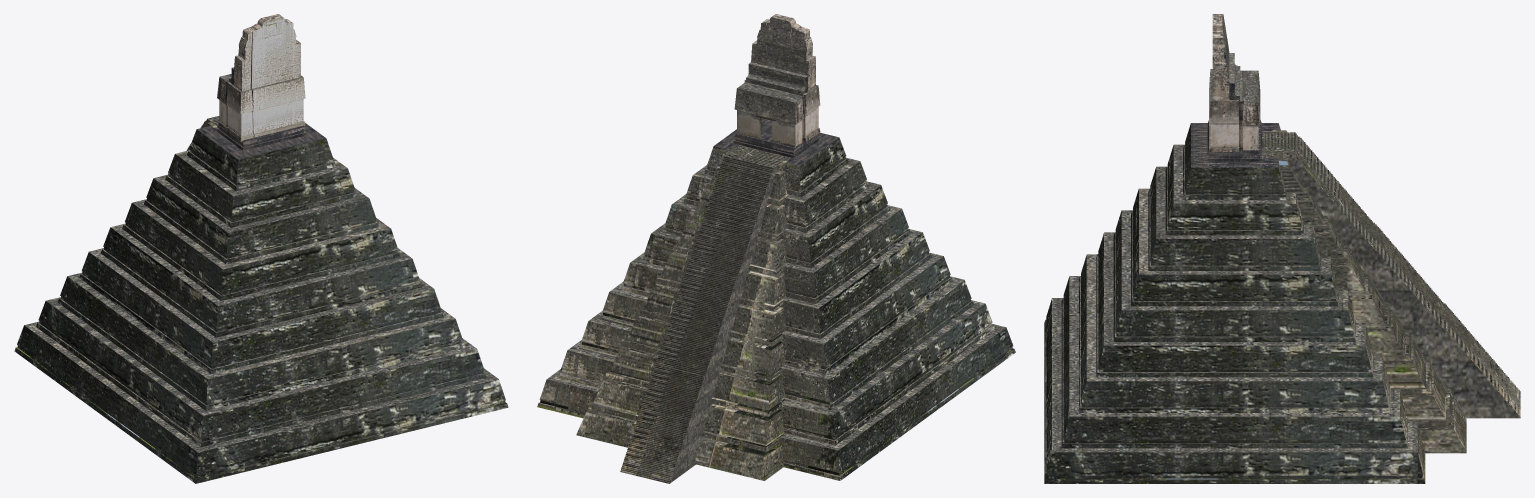
3 views of the same model, side by side, from view 1: azimuth 30°, elevation 25°; view 2: azimuth 150°, elevation 25°; view 3: azimuth 270°, elevation 25° (orthographic). The views are drawn at different scales.
Visible parts, largest first — view 1: Material2 (×40), Material3 (×3); view 2: Material2 (×44), Material3 (×11); view 3: Material2 (×42), Material3 (×13).
Boxes of the visible parts, bbox=[...] form: Material2 (×40): bbox=[14, 23, 508, 483]; Material3 (×3): bbox=[240, 17, 305, 136]; Material2 (×44): bbox=[537, 17, 1015, 483]; Material3 (×11): bbox=[576, 110, 795, 480]; Material2 (×42): bbox=[1044, 14, 1520, 483]; Material3 (×13): bbox=[1209, 64, 1520, 453].
Size of the model in its own units: 1648 by 1856 by 2067.
Materials: 11 (11 with a texture image).
